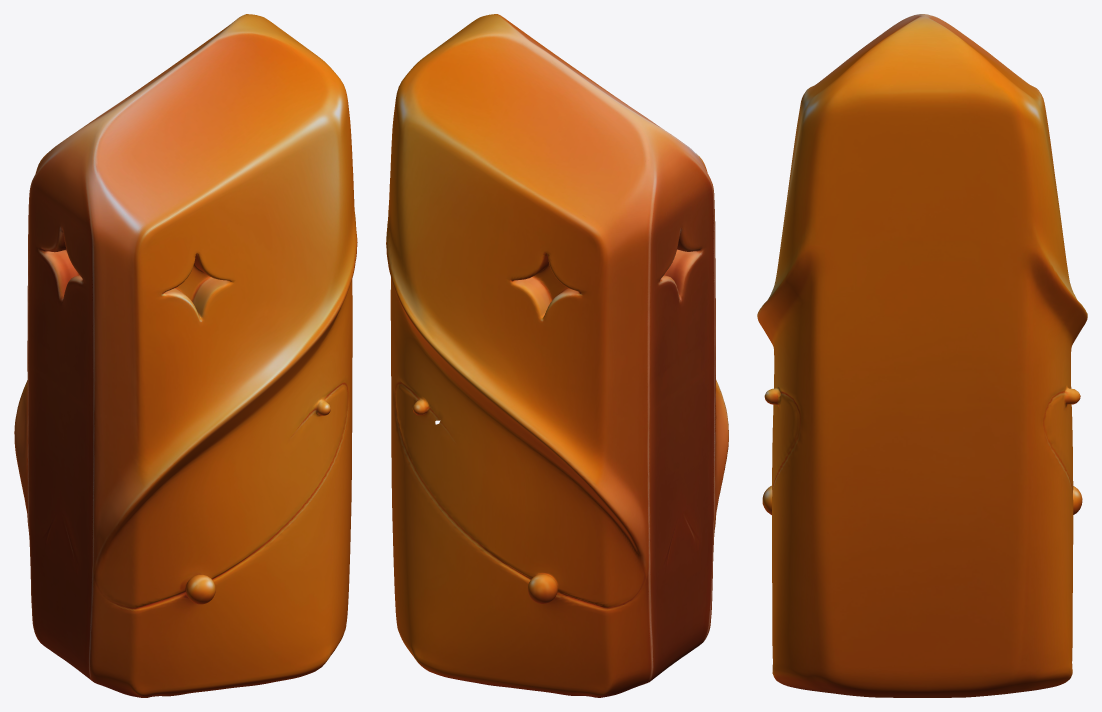
Rendered from pillar-orange.glb.
3 renders of one model, left to right at view 1: azimuth 30°, elevation 25°; view 2: azimuth 150°, elevation 25°; view 3: azimuth 270°, elevation 25°, orthographic. The views are drawn at different scales.
Parts seen in each view (by area): view 1: tripo_node_3746b5b7; view 2: tripo_node_3746b5b7; view 3: tripo_node_3746b5b7.
Boxes of the visible parts, bbox=[...] form: tripo_node_3746b5b7: bbox=[14, 14, 357, 697]; tripo_node_3746b5b7: bbox=[386, 14, 728, 697]; tripo_node_3746b5b7: bbox=[757, 14, 1087, 697].
Size of the model in its own units: 41.4 by 97.81 by 44.31.
1 material, 1 textured.
